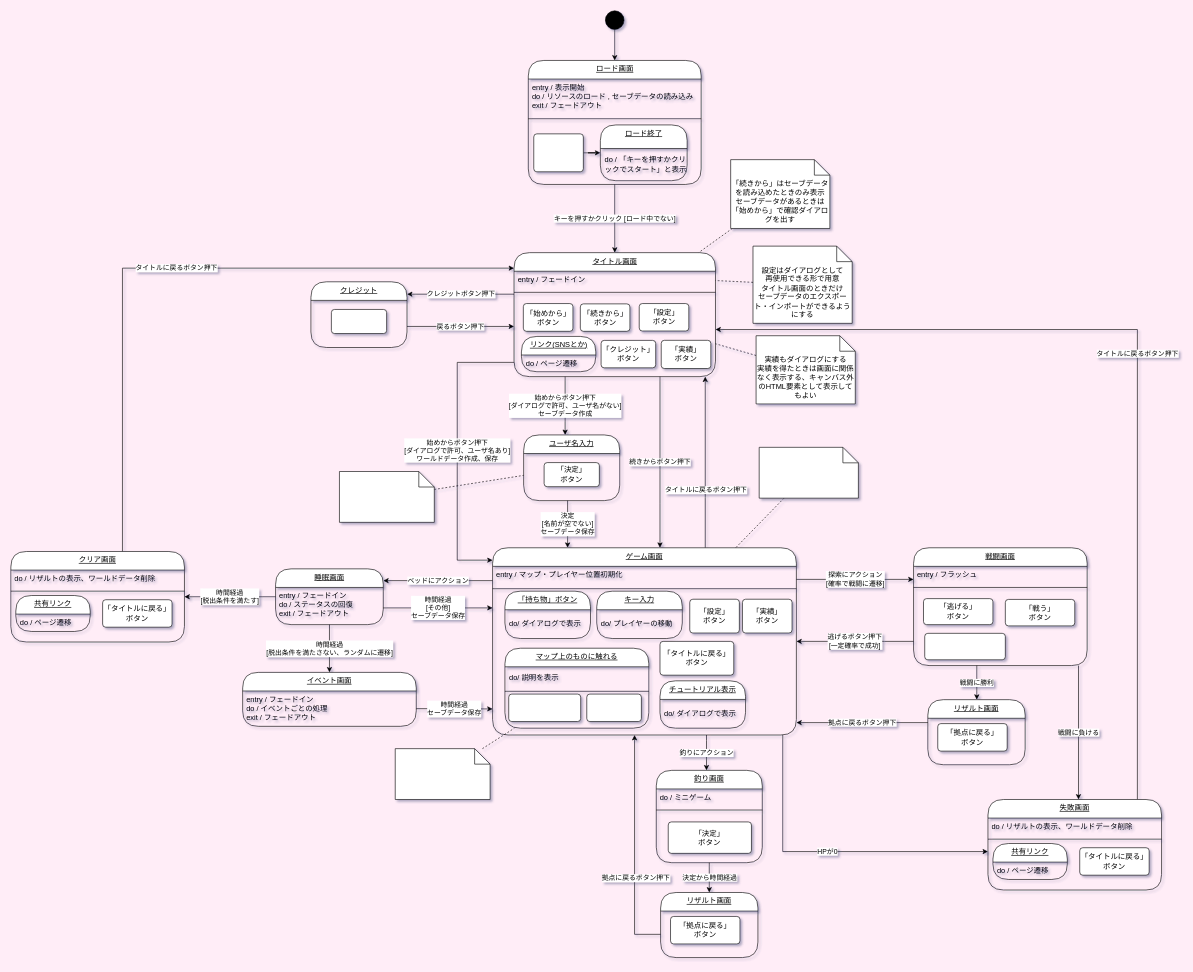
Some shapes in this 1193 by 972 pixel diagram are drawn without their labels. The centre of each missing label's shape, as x and y in pixels:
"(アイテムを)「使う」 ボタン" belongs at [964,646].
"「アクション」 ボタン" belongs at [613,707].
"「アップグレード」 ボタン" belongs at [544,707].
"「戻る」 ボタン" belongs at [359,321].
"スマホ用の移動ボタン(十字)を付ける、画面サイズが小さいときだけ表示" belongs at [808,472].
"ユーザ名はサニタイジングして保存" belongs at [386,496].
"ロード中" belongs at [558,152].
"他のアクションは ダイアログで結果を表示" belongs at [442,773].
